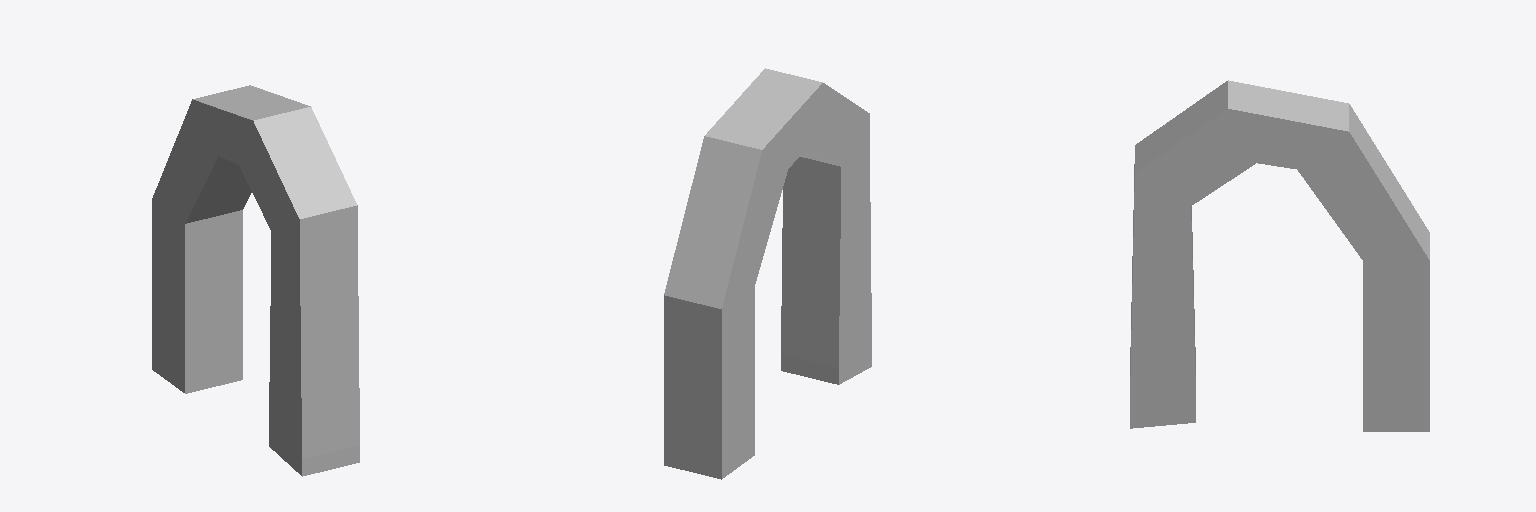
The model's file is Arch4.obj.
3 renders of one model, left to right at view 1: azimuth 30°, elevation 25°; view 2: azimuth 150°, elevation 25°; view 3: azimuth 270°, elevation 25°, orthographic.
Parts seen in each view (by area): view 1: Arch4; view 2: Arch4; view 3: Arch4.
Part boxes in pixels (x1,y1,x2,y2): Arch4: (152, 85, 359, 476); Arch4: (664, 68, 871, 479); Arch4: (1130, 80, 1429, 431).
Bounding box in the file's own units: 1 × 5.33 × 4.49.